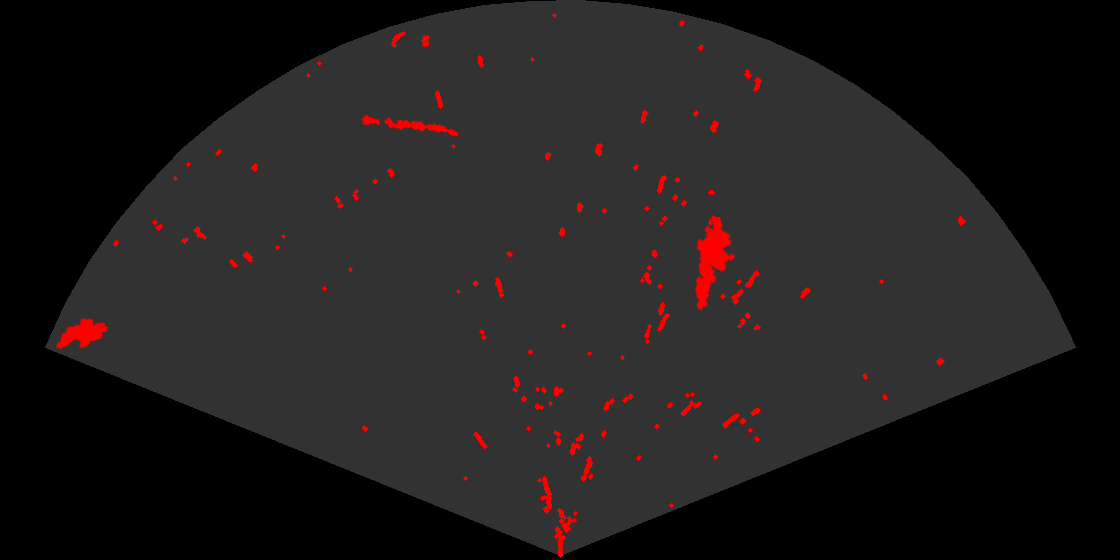AUV: (54, 316, 110, 351)
chain: (360, 113, 460, 138)
frogman: (693, 217, 737, 312)
